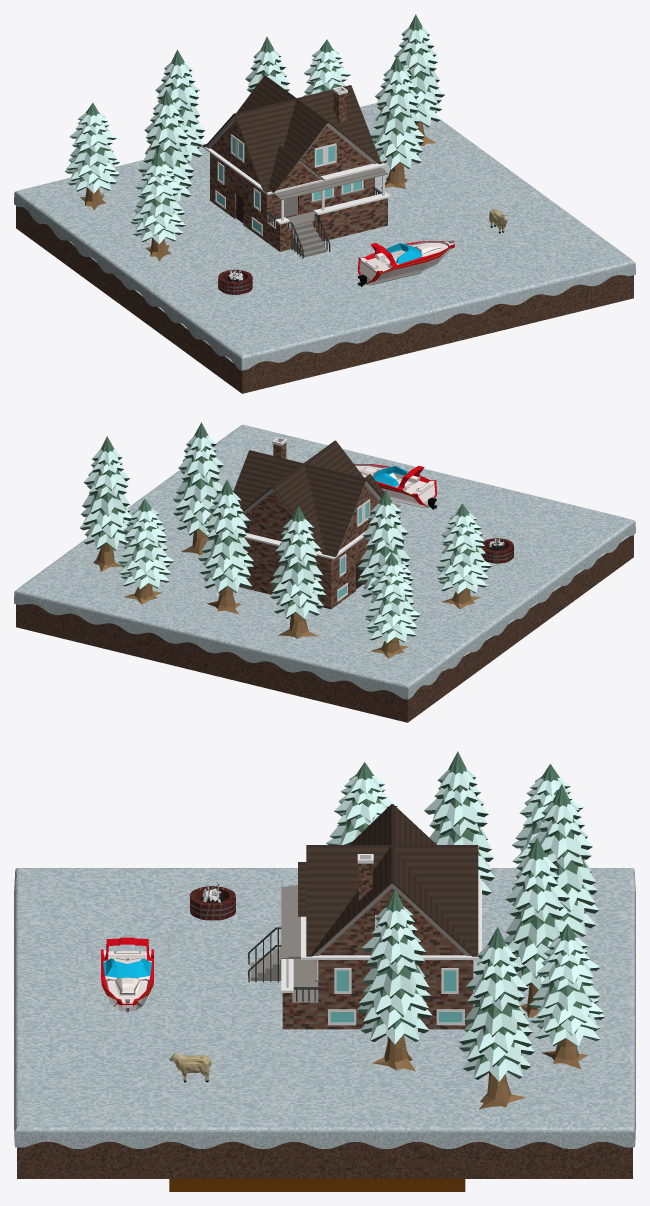
The picture shows the model from 3 angles, top to bottom: view 1: azimuth 30°, elevation 25°; view 2: azimuth 150°, elevation 25°; view 3: azimuth 270°, elevation 25°; orthographic projection. The views are drawn at different scales.
Parts seen in each view (by area): view 1: Cube.003, Cube.117, VEHICLES_BOAT, OBJRANDOM_CAMPFIRE; view 2: Cube.003, Cube.117, VEHICLES_BOAT, OBJRANDOM_CAMPFIRE; view 3: Cube.003, Cube.117, UNDERGROUND_ART_PIECE_VAN_GOGH, VEHICLES_BOAT, OBJRANDOM_CAMPFIRE, ANIMAL_OVEJA.
Boxes of the visible parts, x1,y1,x2,y2 form: Cube.003: (14, 14, 635, 393); Cube.117: (201, 75, 390, 258); VEHICLES_BOAT: (357, 240, 454, 286); OBJRANDOM_CAMPFIRE: (218, 263, 252, 294); Cube.003: (14, 422, 635, 722); Cube.117: (233, 437, 403, 609); VEHICLES_BOAT: (354, 464, 437, 509); OBJRANDOM_CAMPFIRE: (481, 538, 513, 563); Cube.003: (14, 751, 635, 1178); Cube.117: (248, 804, 481, 1029); UNDERGROUND_ART_PIECE_VAN_GOGH: (169, 1179, 465, 1191); VEHICLES_BOAT: (101, 937, 153, 1012); OBJRANDOM_CAMPFIRE: (189, 883, 235, 920); ANIMAL_OVEJA: (169, 1052, 211, 1082).
Size of the model in its own units: 4040 by 1818 by 4040.
31 materials, 5 textured.
